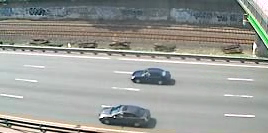car: (97, 101, 156, 129), (129, 66, 174, 86)
